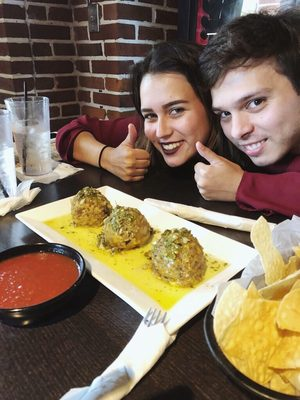burger: (55, 264, 247, 400)
sushi: (0, 241, 91, 329)
